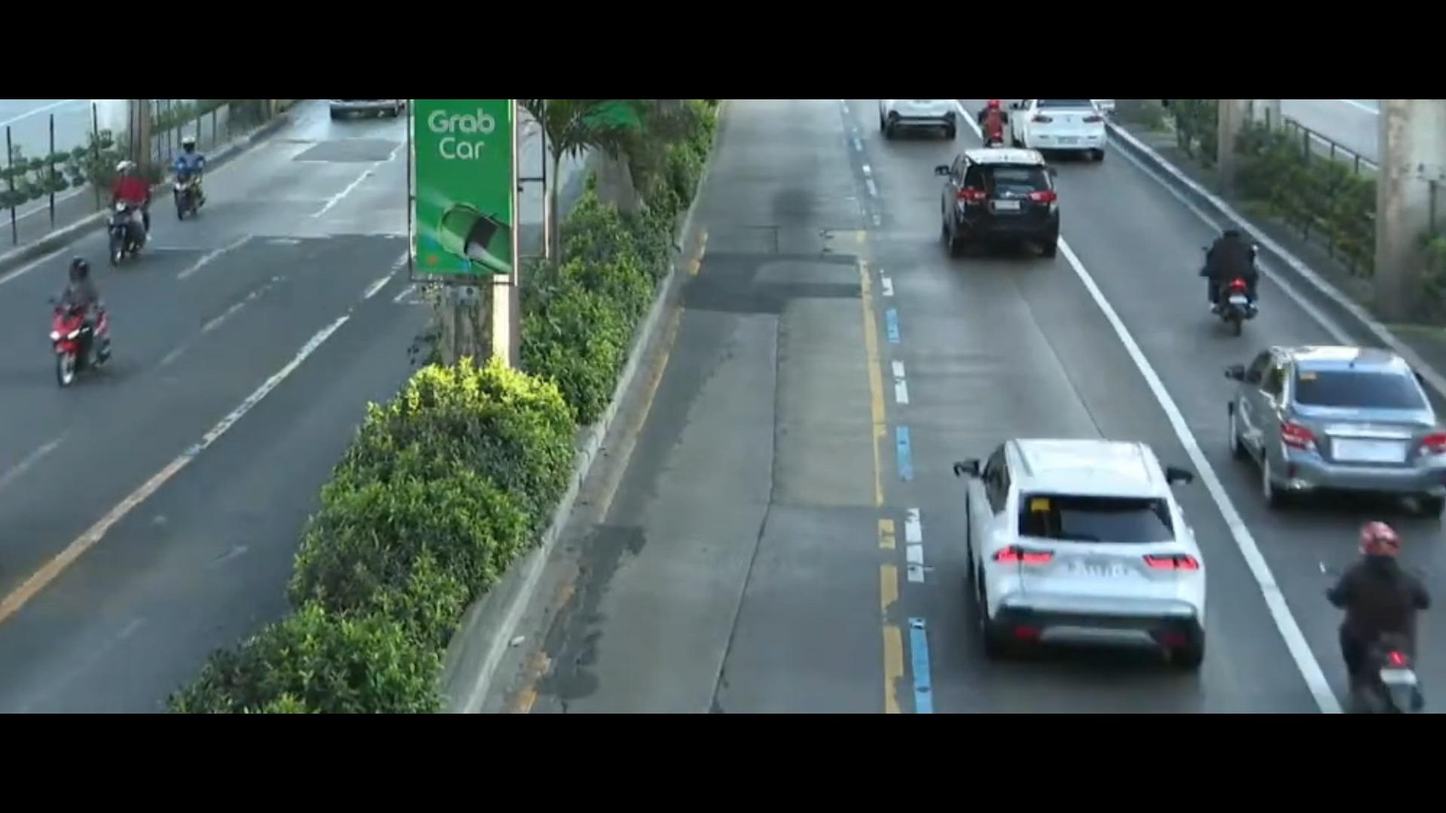Motorcycle: (1292, 499, 1432, 709), (18, 254, 128, 390), (153, 132, 247, 237), (1200, 213, 1269, 325), (110, 134, 162, 270), (978, 96, 1018, 151)
SUV: (947, 384, 1239, 684), (1010, 100, 1120, 155)
Sedan: (1209, 317, 1446, 539), (930, 123, 1082, 253)
